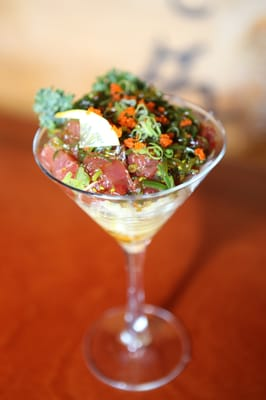sandwich: (32, 62, 228, 398)
